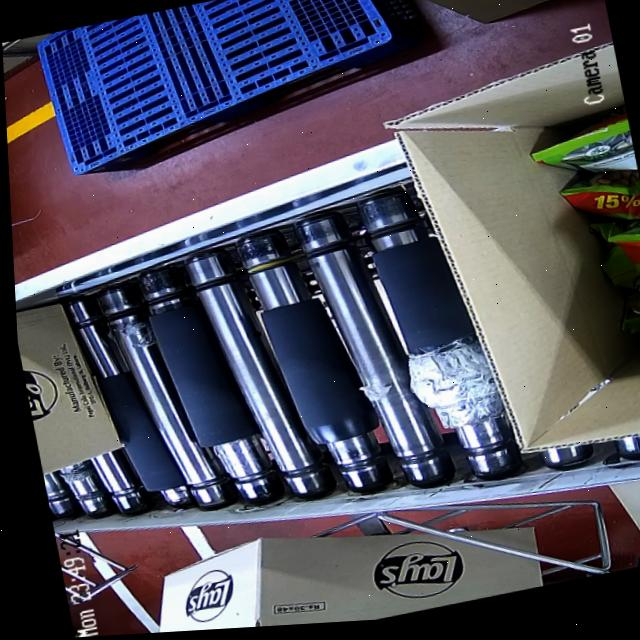YOGURT_HERB: (545, 101, 640, 358)
